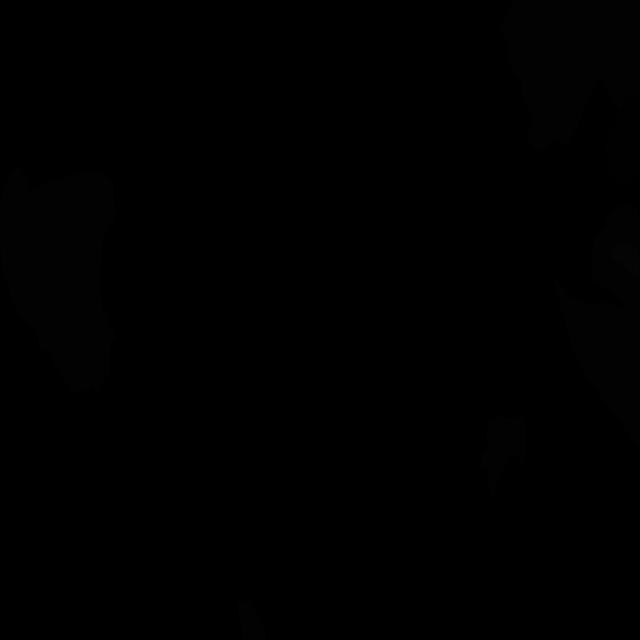cardboard: (1, 170, 116, 396), (500, 0, 640, 151), (553, 279, 640, 448), (592, 205, 640, 336), (480, 416, 526, 505), (0, 164, 31, 251), (237, 599, 266, 640)
rigid_plastic: (604, 95, 640, 190)
soft_plastic: (610, 241, 640, 277)
